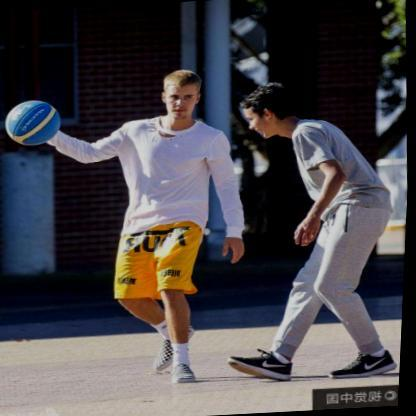basketball: (4, 100, 62, 148)
